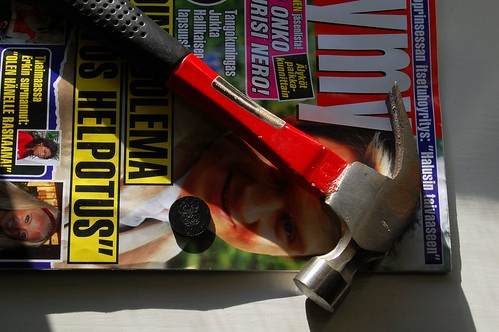hammer: (58, 1, 423, 317)
